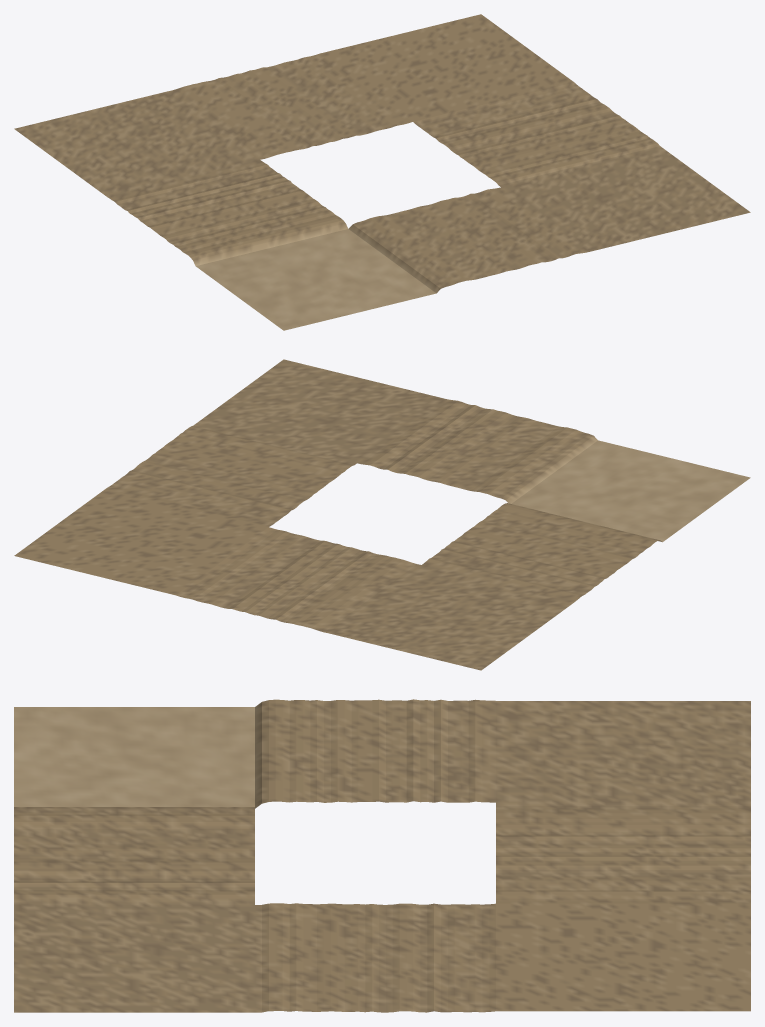
Rendered from backdrop_ground.glb.
3 renders of one model, top to bottom at view 1: azimuth 30°, elevation 25°; view 2: azimuth 150°, elevation 25°; view 3: azimuth 270°, elevation 25°, orthographic. The views are drawn at different scales.
Parts seen in each view (by area): view 1: FarGround; view 2: FarGround; view 3: FarGround.
Part boxes in pixels (box(x1,y1,x2,y2)): FarGround: box(14, 14, 750, 330); FarGround: box(14, 359, 750, 670); FarGround: box(14, 699, 750, 1012).
Bounding box in the file's own units: 2140 × 24.42 × 2140.
